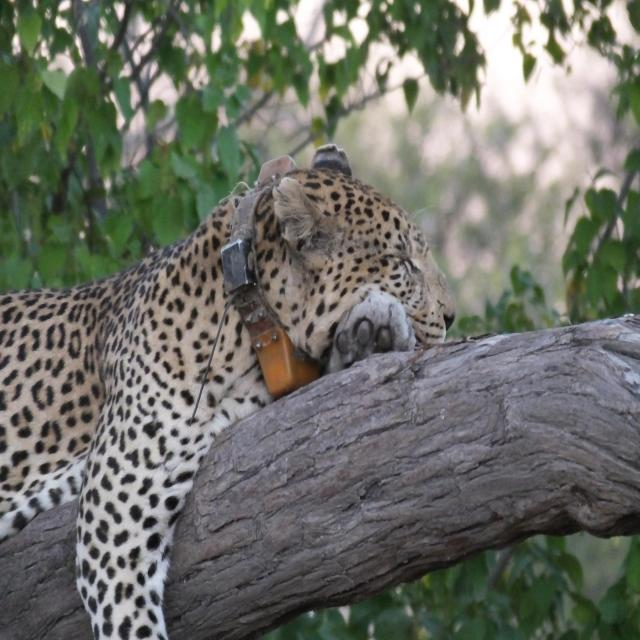Leopard: (0, 130, 466, 640)
